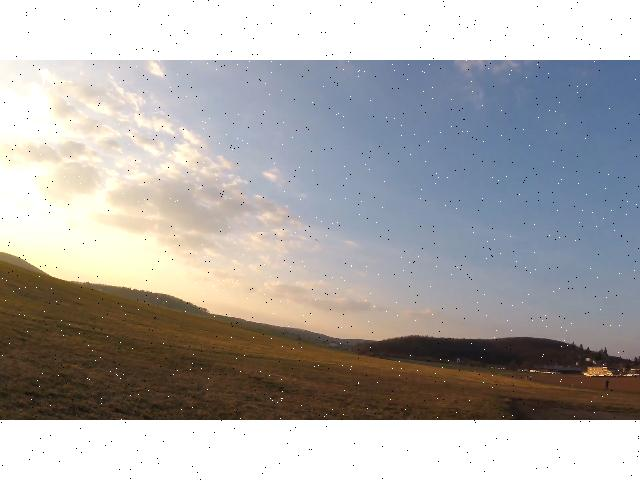Anti-Drone: (312, 235, 324, 244)
